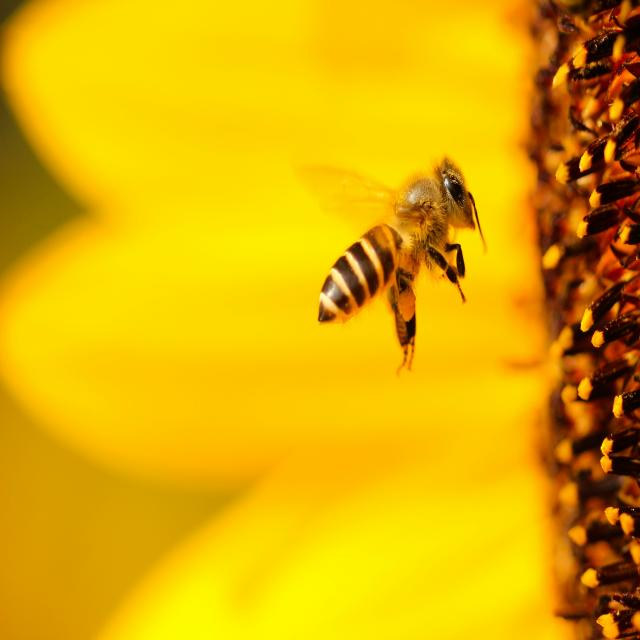bee: (294, 152, 505, 380)
